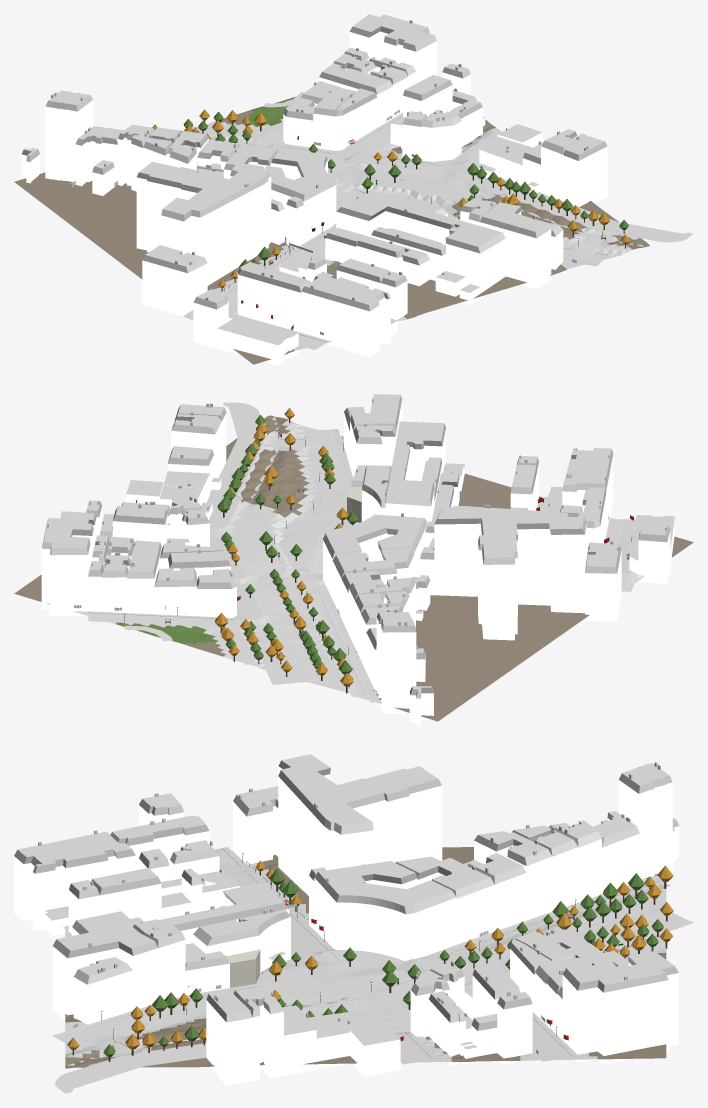
The model's file is zone_H2.glb.
The picture shows the model from 3 angles, top to bottom: view 1: azimuth 30°, elevation 25°; view 2: azimuth 150°, elevation 25°; view 3: azimuth 270°, elevation 25°; orthographic projection. The views are drawn at different scales.
Visible parts, largest first — view 1: zone_H2_batiments, zone_H2_terrain, zone_H2_sol_NOCOL, zone_H2_decor_NOCOL; view 2: zone_H2_batiments, zone_H2_terrain, zone_H2_sol_NOCOL, zone_H2_decor_NOCOL; view 3: zone_H2_batiments, zone_H2_sol_NOCOL, zone_H2_terrain, zone_H2_decor_NOCOL.
Boxes of the visible parts, x1,y1,x2,y2 form: zone_H2_batiments: [21, 14, 607, 365]; zone_H2_terrain: [14, 97, 649, 364]; zone_H2_sol_NOCOL: [183, 92, 693, 349]; zone_H2_decor_NOCOL: [152, 109, 630, 291]; zone_H2_batiments: [41, 394, 674, 725]; zone_H2_terrain: [14, 415, 693, 721]; zone_H2_sol_NOCOL: [88, 402, 637, 702]; zone_H2_decor_NOCOL: [123, 408, 632, 693]; zone_H2_batiments: [14, 754, 679, 1085]; zone_H2_sol_NOCOL: [52, 847, 693, 1093]; zone_H2_terrain: [65, 847, 666, 1068]; zone_H2_decor_NOCOL: [67, 853, 673, 1061].
Bounding box in the file's own units: 233 × 44.97 × 238.
